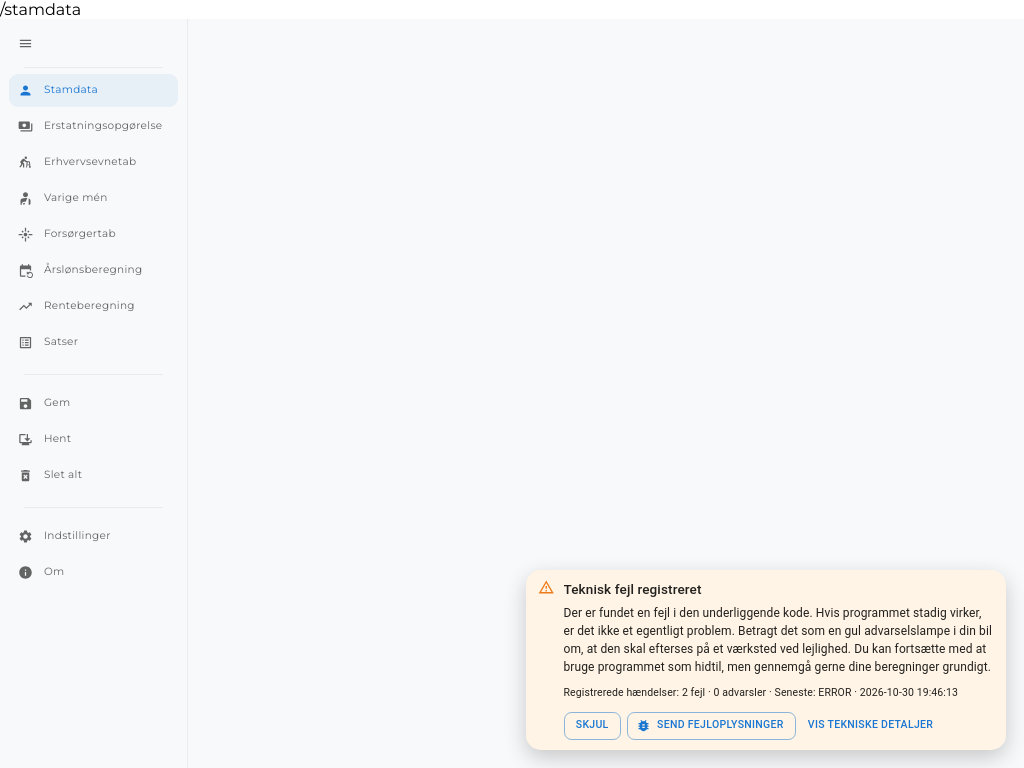
Test: MainLayout – Slet alt-bekræftelse › bevarer sagen ved Annuller og returnerer fokus til Slet alt-knappen
Step 1. Click the button "Slet alt" → (93, 476), box [9,459,178,492]
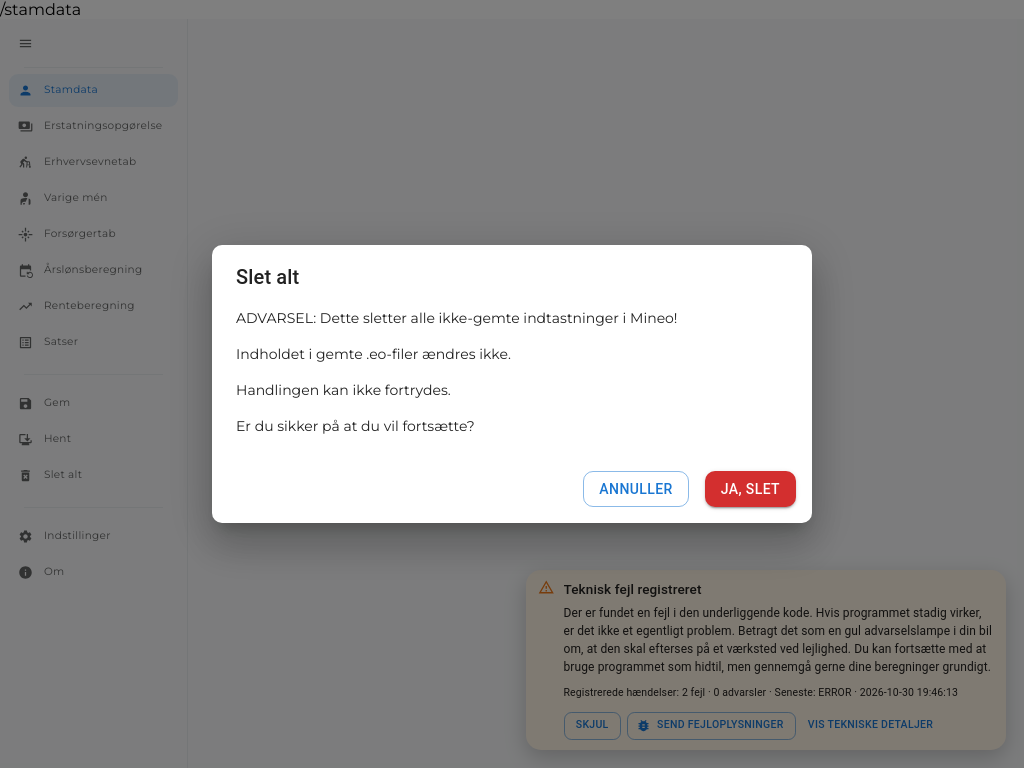
Now the dialog is shown, box [212,245,812,523]
Step 2. Click the button "Annuller" → (636, 489), box [583,471,689,507]
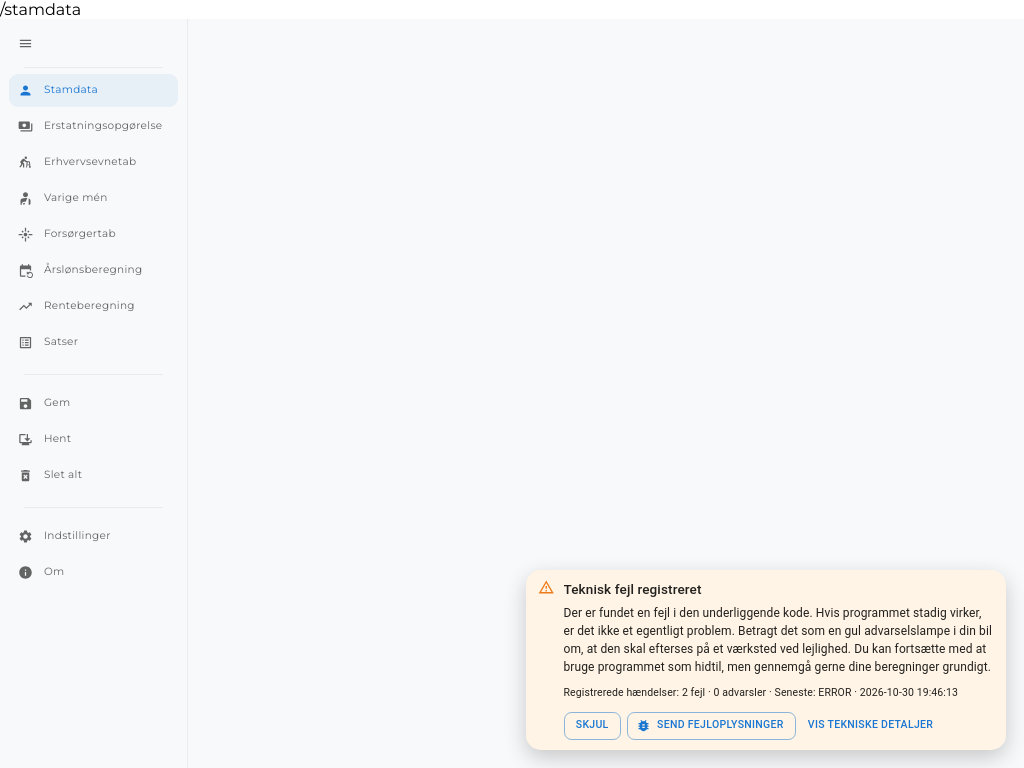
Now the dialog is gone
